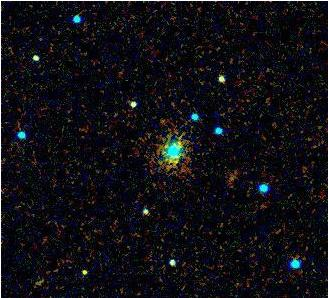star: (68, 257, 98, 287)
